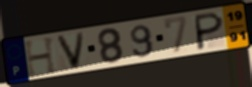7: (161, 14, 192, 56)
8: (96, 27, 125, 65)
9: (129, 23, 156, 59)
H: (22, 35, 59, 78)
P: (195, 10, 225, 52)
V: (53, 30, 87, 71)
